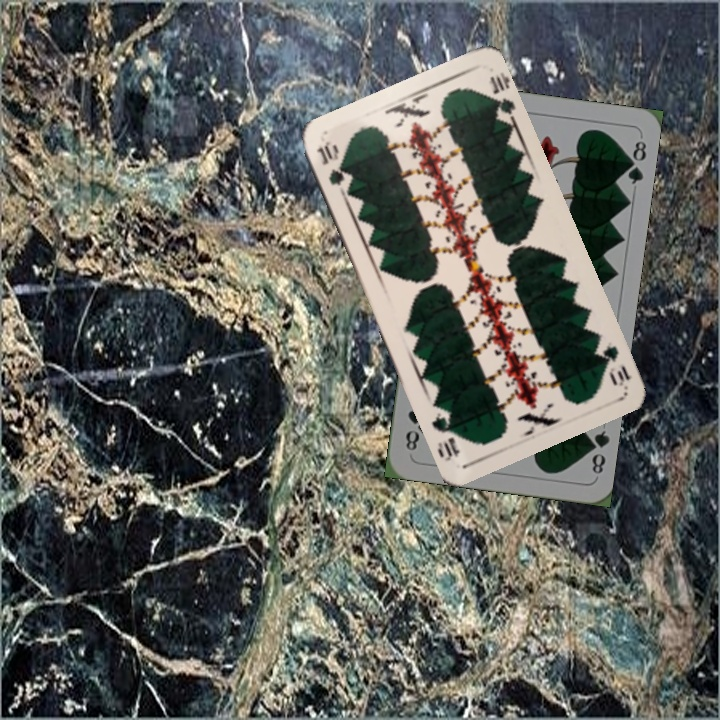G10: (312, 137, 351, 196), (596, 341, 633, 389)
G8: (581, 426, 611, 476)
